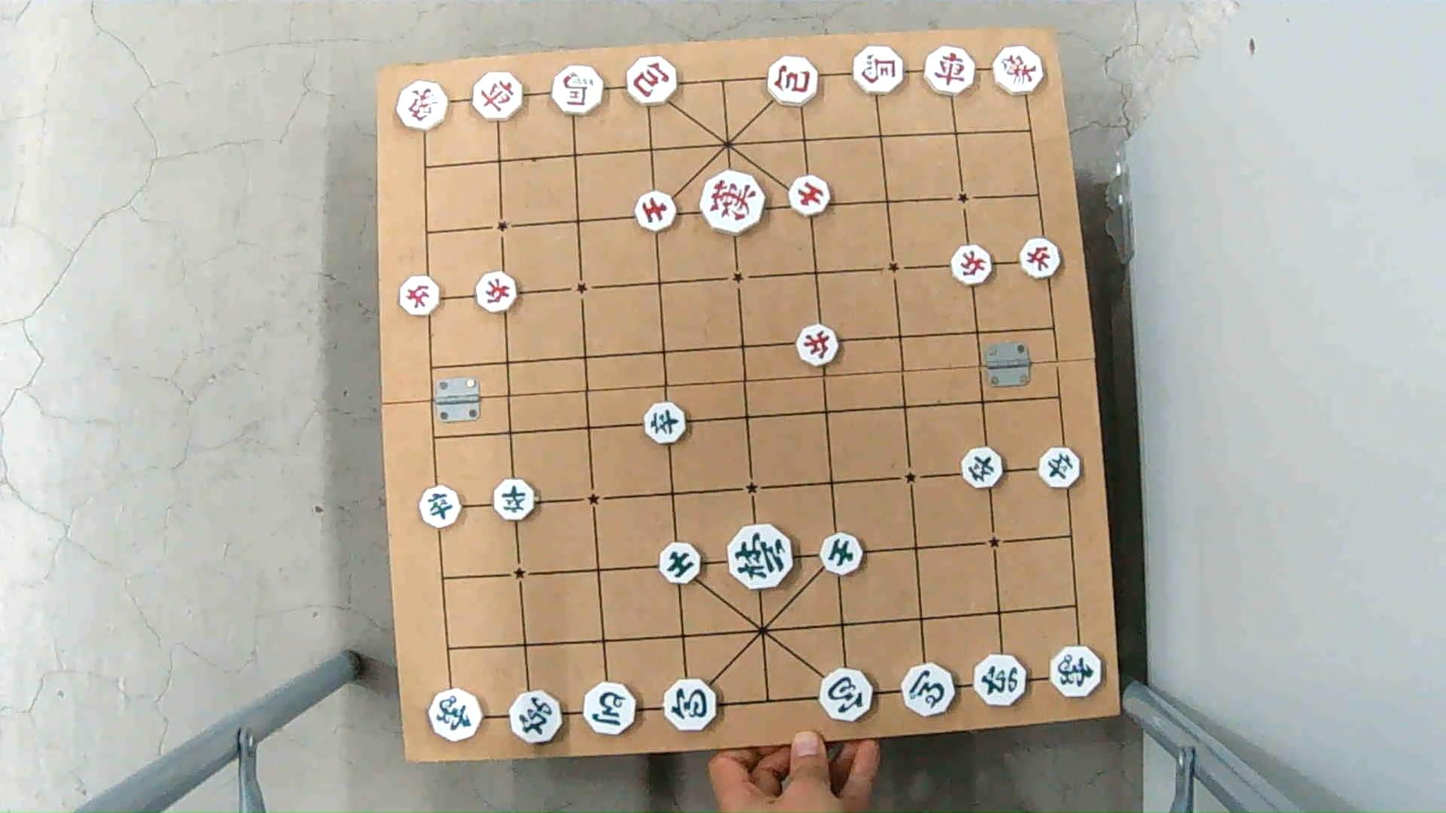cha_green: (506, 693, 566, 743), (974, 653, 1027, 703)
cha_red: (921, 47, 981, 96), (471, 75, 529, 120)
jol_green: (639, 404, 689, 442), (1039, 447, 1084, 489), (958, 450, 1008, 486), (416, 489, 466, 525), (490, 485, 541, 519)
jol_red: (795, 323, 843, 366), (950, 243, 996, 284), (398, 276, 444, 315), (1019, 239, 1062, 279), (474, 275, 523, 309)
ma_green: (582, 683, 642, 732), (900, 668, 957, 715)
ma_red: (849, 46, 908, 93), (548, 68, 608, 112)
po_green: (821, 667, 876, 722), (664, 681, 720, 731)
po_red: (764, 59, 822, 105), (624, 60, 681, 105)
sa_green: (816, 531, 865, 576), (655, 540, 705, 582)
sa_red: (786, 178, 833, 216), (631, 193, 681, 228)
sang_green: (429, 690, 487, 740), (1048, 648, 1107, 696)
sang_red: (392, 84, 450, 128), (990, 48, 1048, 91)
wang_green: (726, 526, 794, 590)
wang_red: (701, 172, 770, 229)
